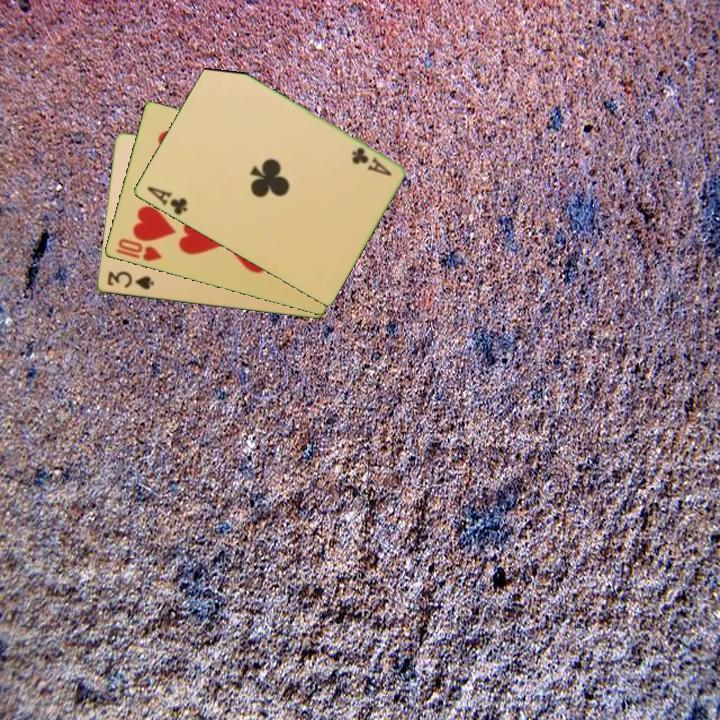10h: (114, 235, 165, 265)
3s: (103, 268, 157, 293)
Ac: (143, 183, 190, 218), (348, 144, 394, 179)
